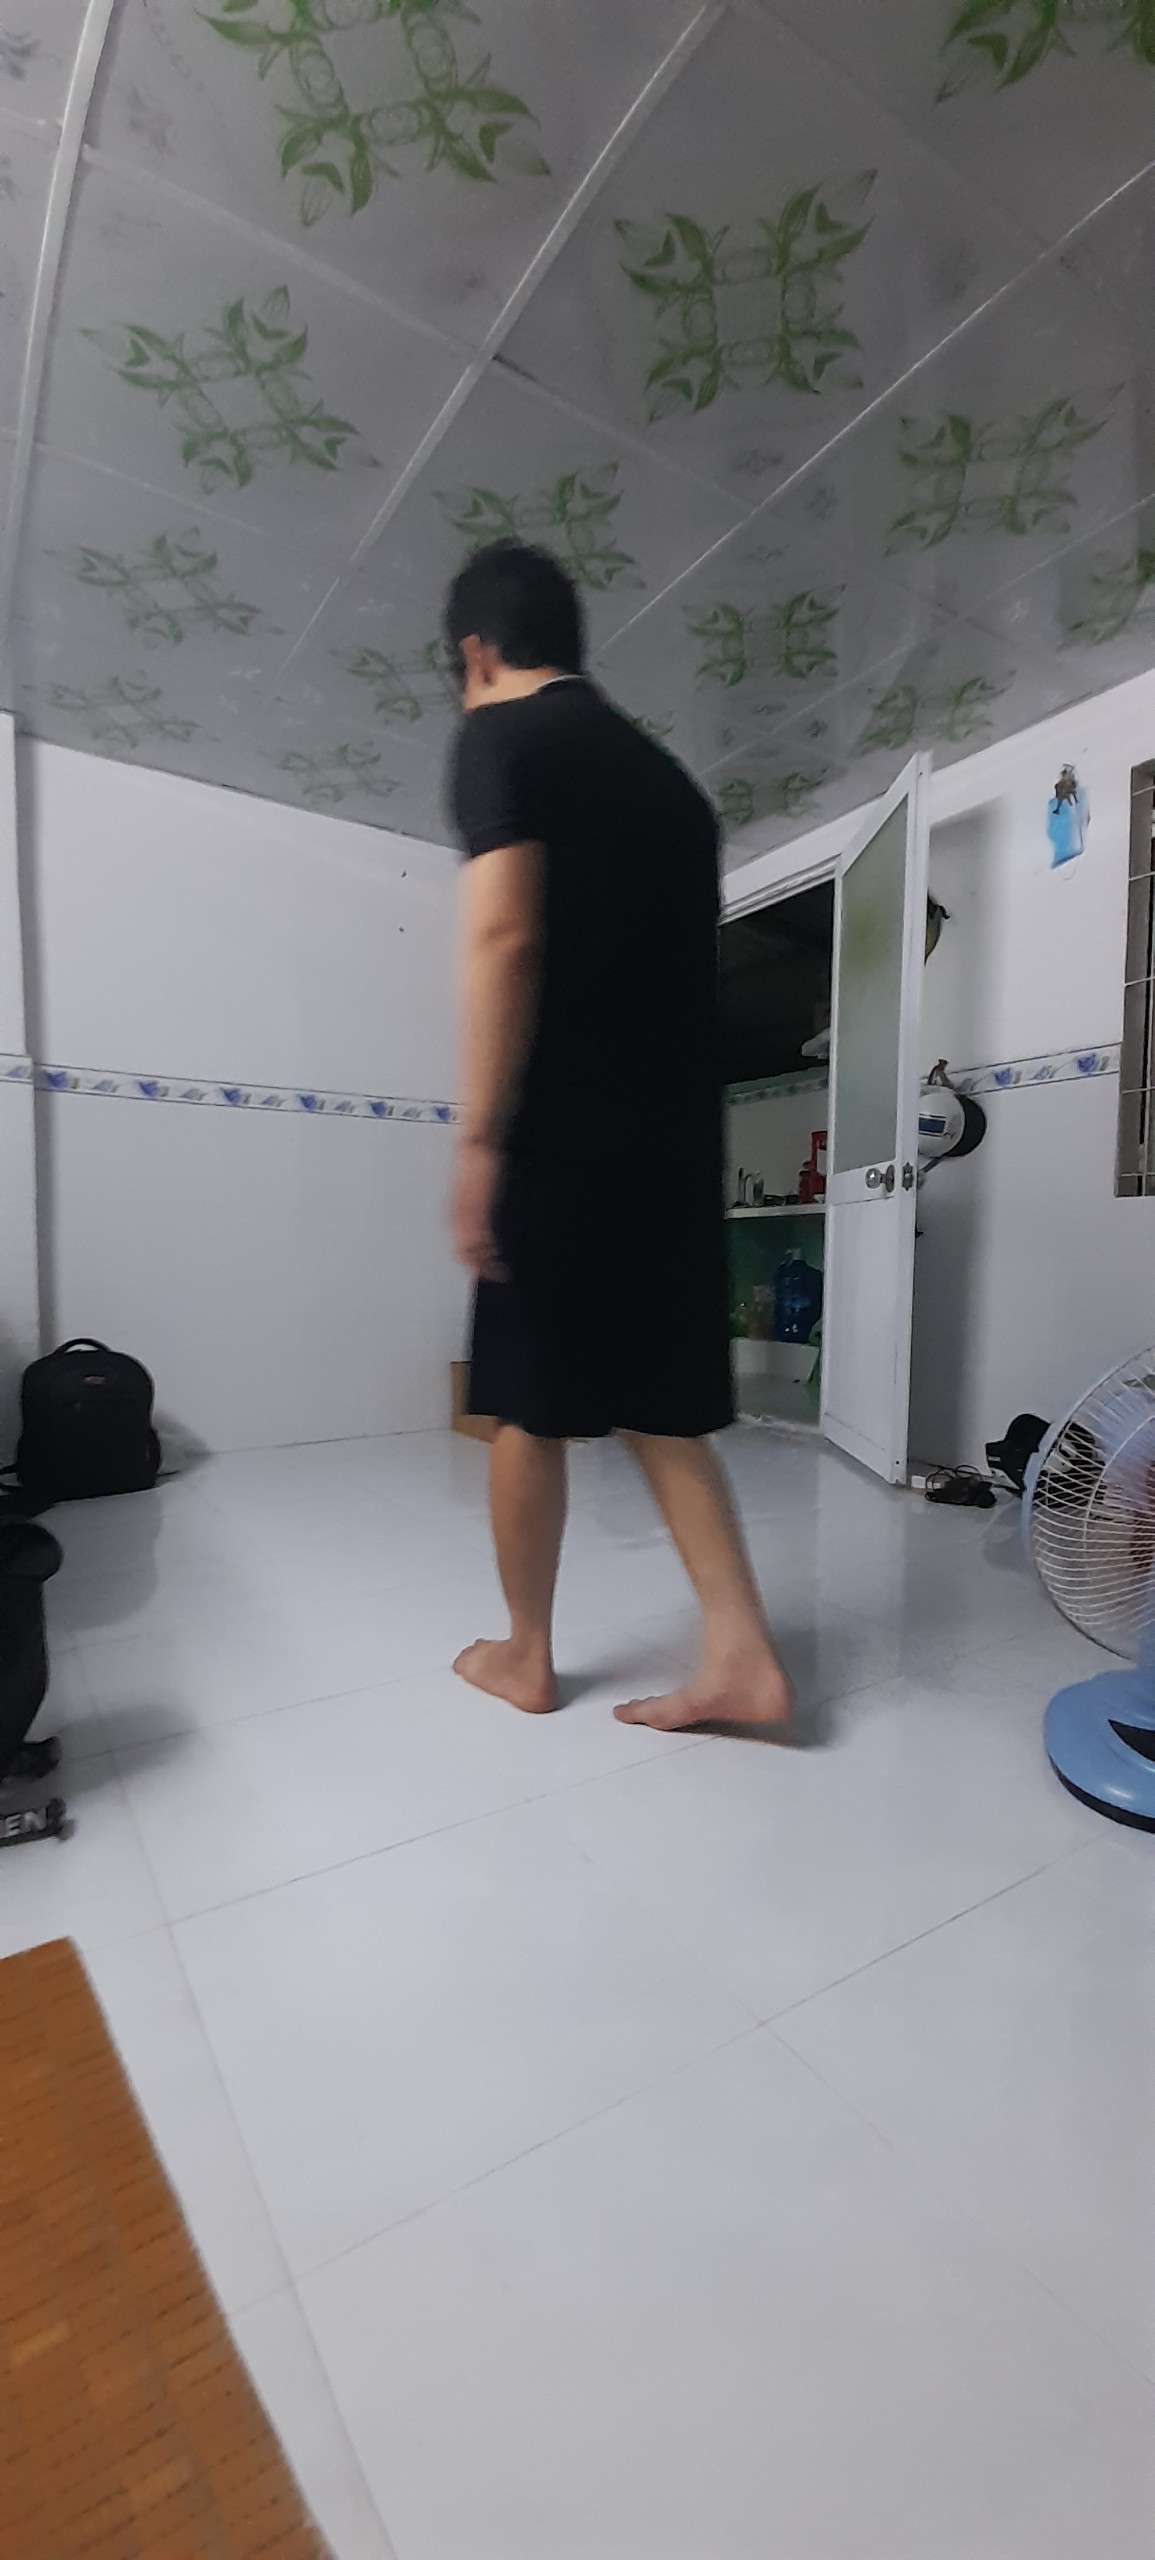person: (427, 552, 798, 1744)
